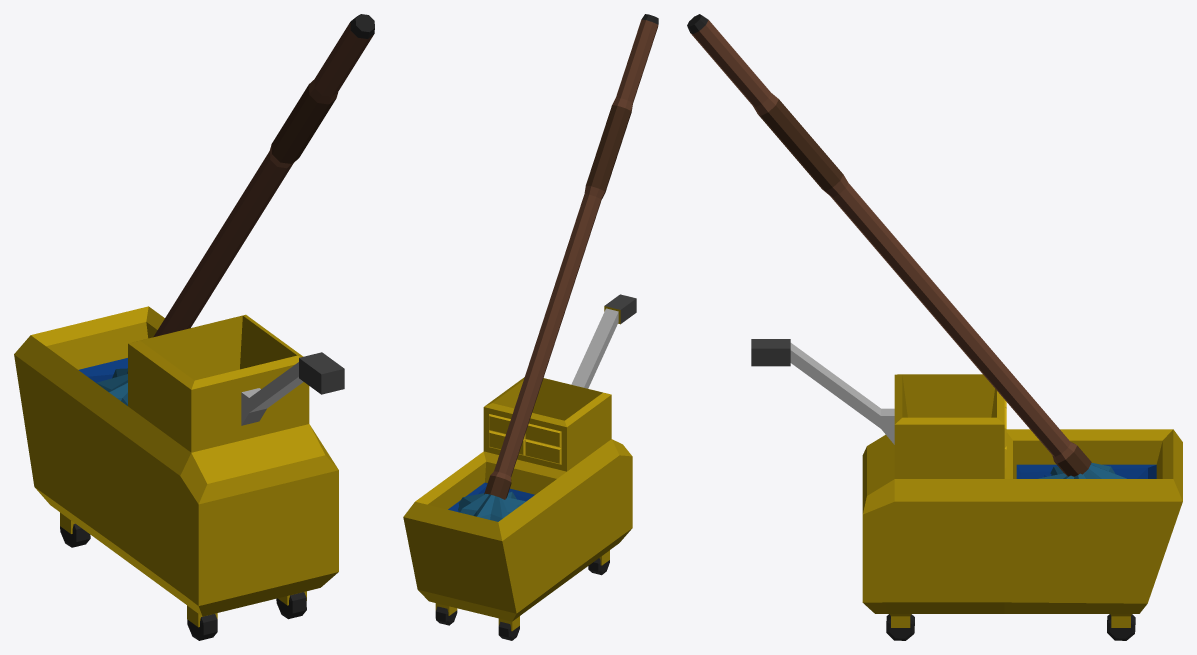
The model's file is MopBucketV1WithMop.fbx.
3 views of the same model, side by side, from view 1: azimuth 30°, elevation 25°; view 2: azimuth 150°, elevation 25°; view 3: azimuth 270°, elevation 25° (orthographic). The views are drawn at different scales.
Visible parts, largest first — view 1: MopBucketV1WithMop; view 2: MopBucketV1WithMop; view 3: MopBucketV1WithMop.
Part boxes in pixels (left/top/right/bottom): MopBucketV1WithMop: left=14, top=14, right=374, bottom=640; MopBucketV1WithMop: left=403, top=14, right=658, bottom=640; MopBucketV1WithMop: left=687, top=14, right=1182, bottom=640.
Size of the model in its own units: 27.96 by 133 by 98.69.
